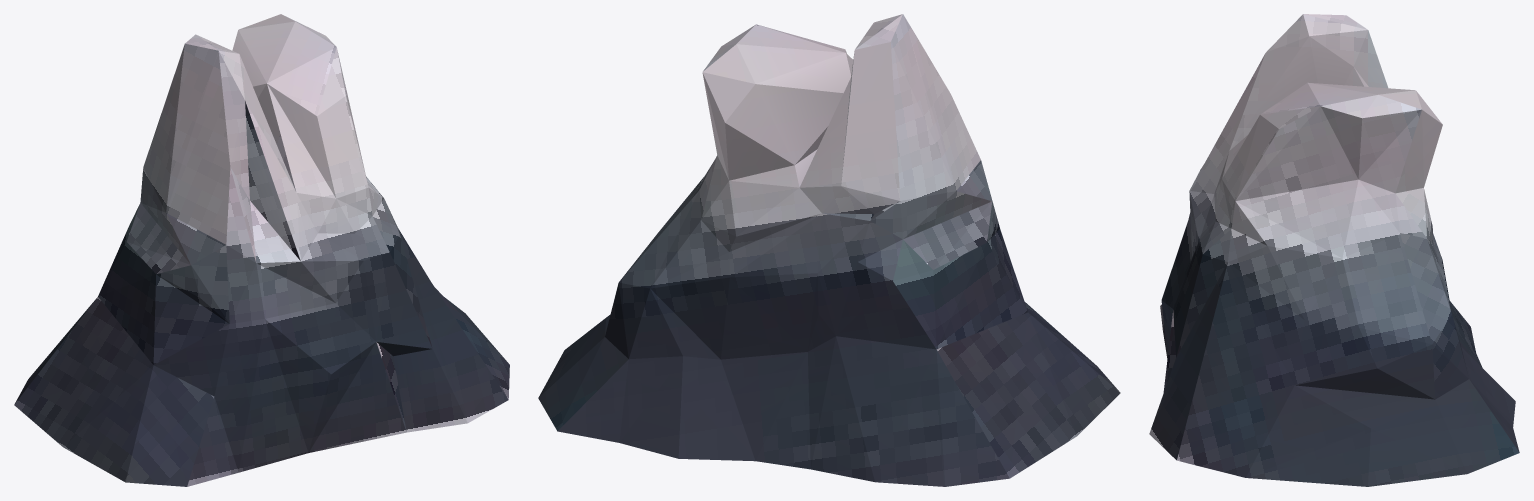
File: mountain_tall_snow_low.glb
3 renders of one model, left to right at view 1: azimuth 30°, elevation 25°; view 2: azimuth 150°, elevation 25°; view 3: azimuth 270°, elevation 25°, orthographic. The views are drawn at different scales.
Parts seen in each view (by area): view 1: mountain_tall_snow_low; view 2: mountain_tall_snow_low; view 3: mountain_tall_snow_low.
Boxes of the visible parts, x1=… form: mountain_tall_snow_low: x1=14, y1=14, x2=509, y2=486; mountain_tall_snow_low: x1=538, y1=14, x2=1120, y2=486; mountain_tall_snow_low: x1=1149, y1=14, x2=1519, y2=486.
Bounding box in the file's own units: 92.78 × 71.87 × 70.65.
Materials: 1 (1 with a texture image).
